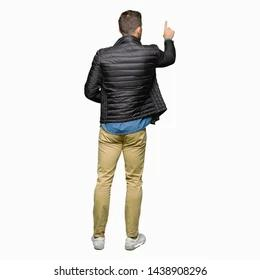coat: (83, 35, 177, 126)
trousers: (92, 125, 147, 238)
